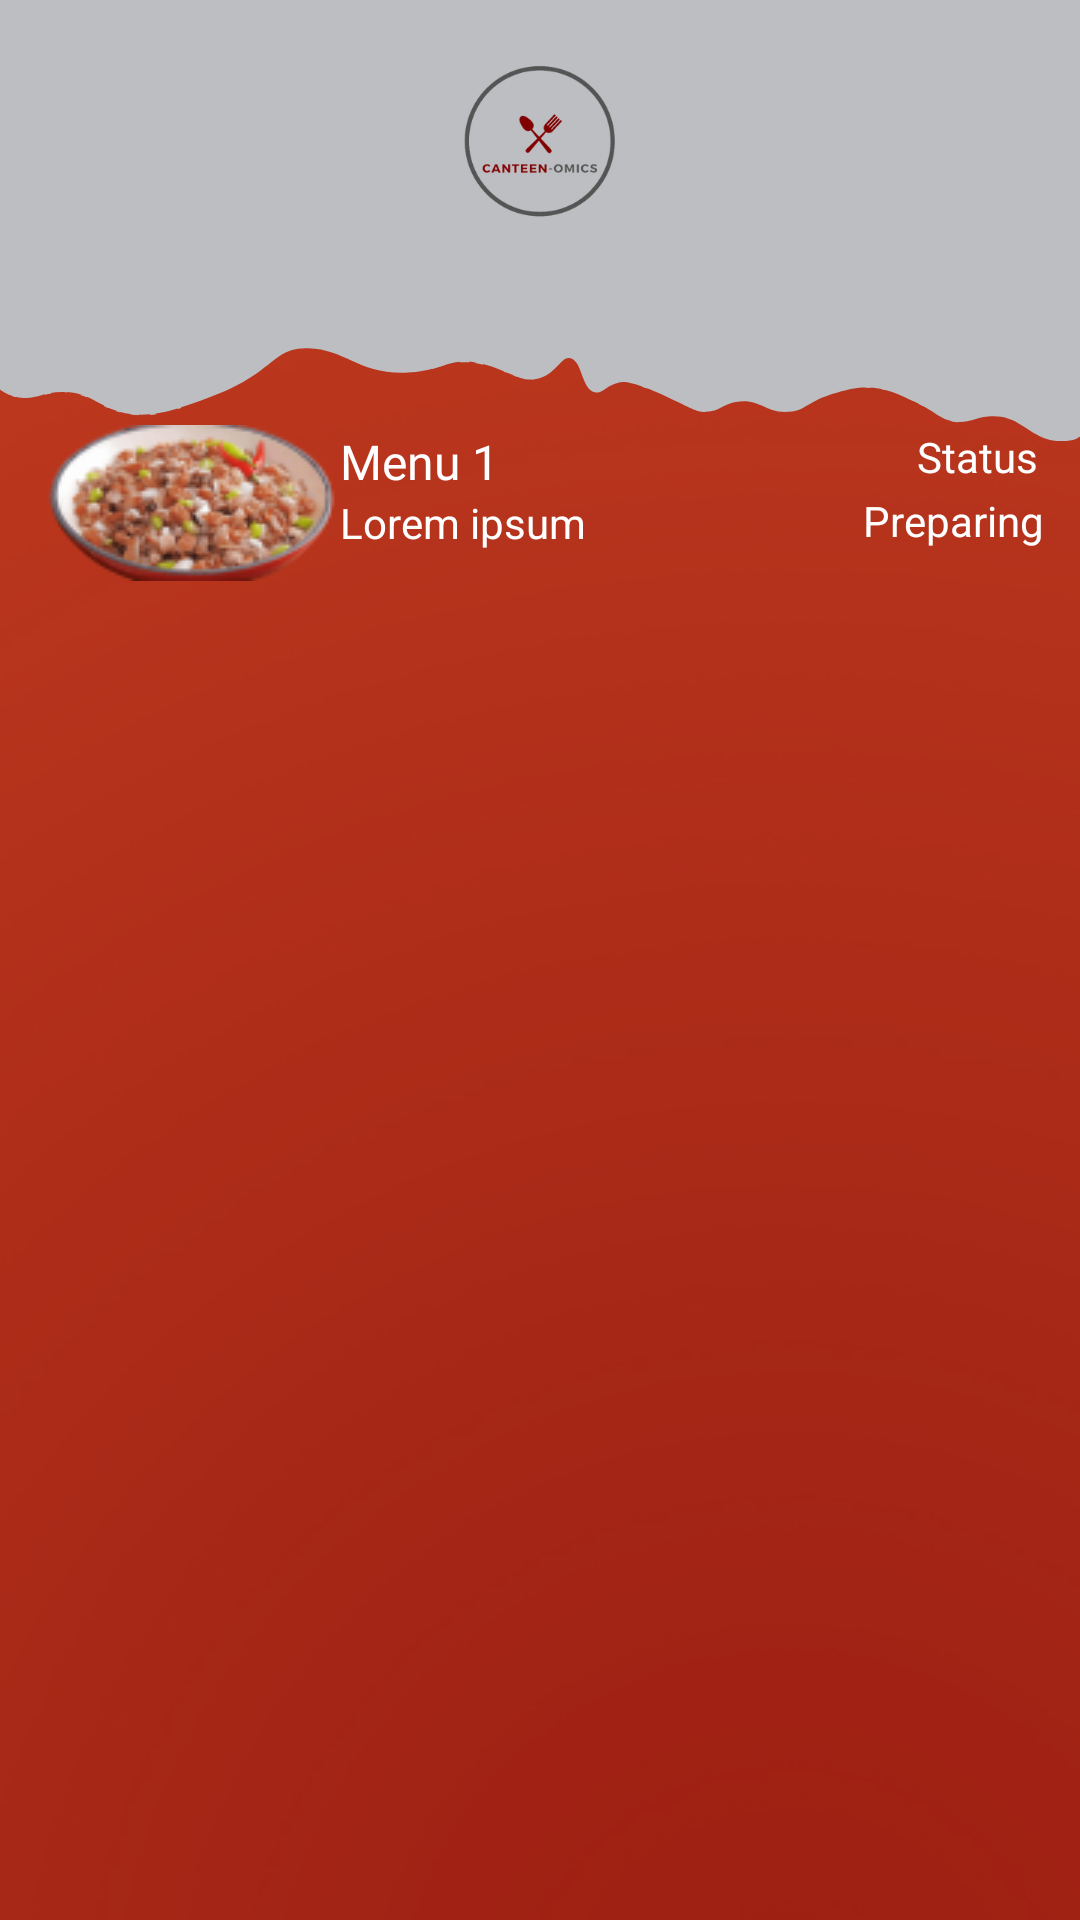

Locate icon controls on the screen. Image size 1080×1920, boxes as detection(x1, y1, x2, y2).
sisiig: detection(49, 425, 334, 581)
